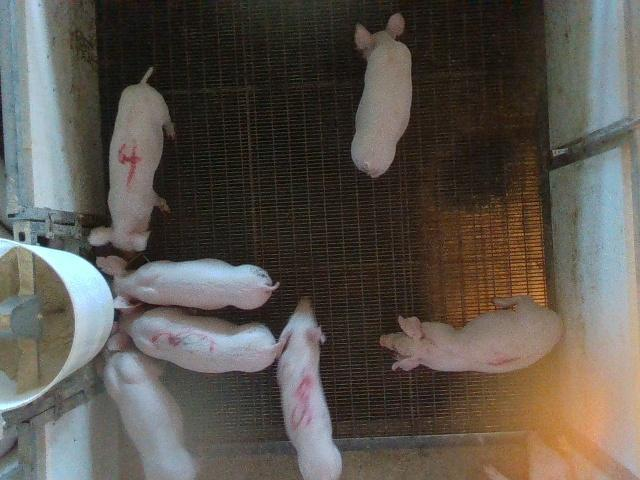pig-1: (380, 295, 562, 373)
pig-3: (108, 308, 278, 372)
pig-4: (89, 70, 175, 251)
pig-5: (276, 298, 342, 478)
